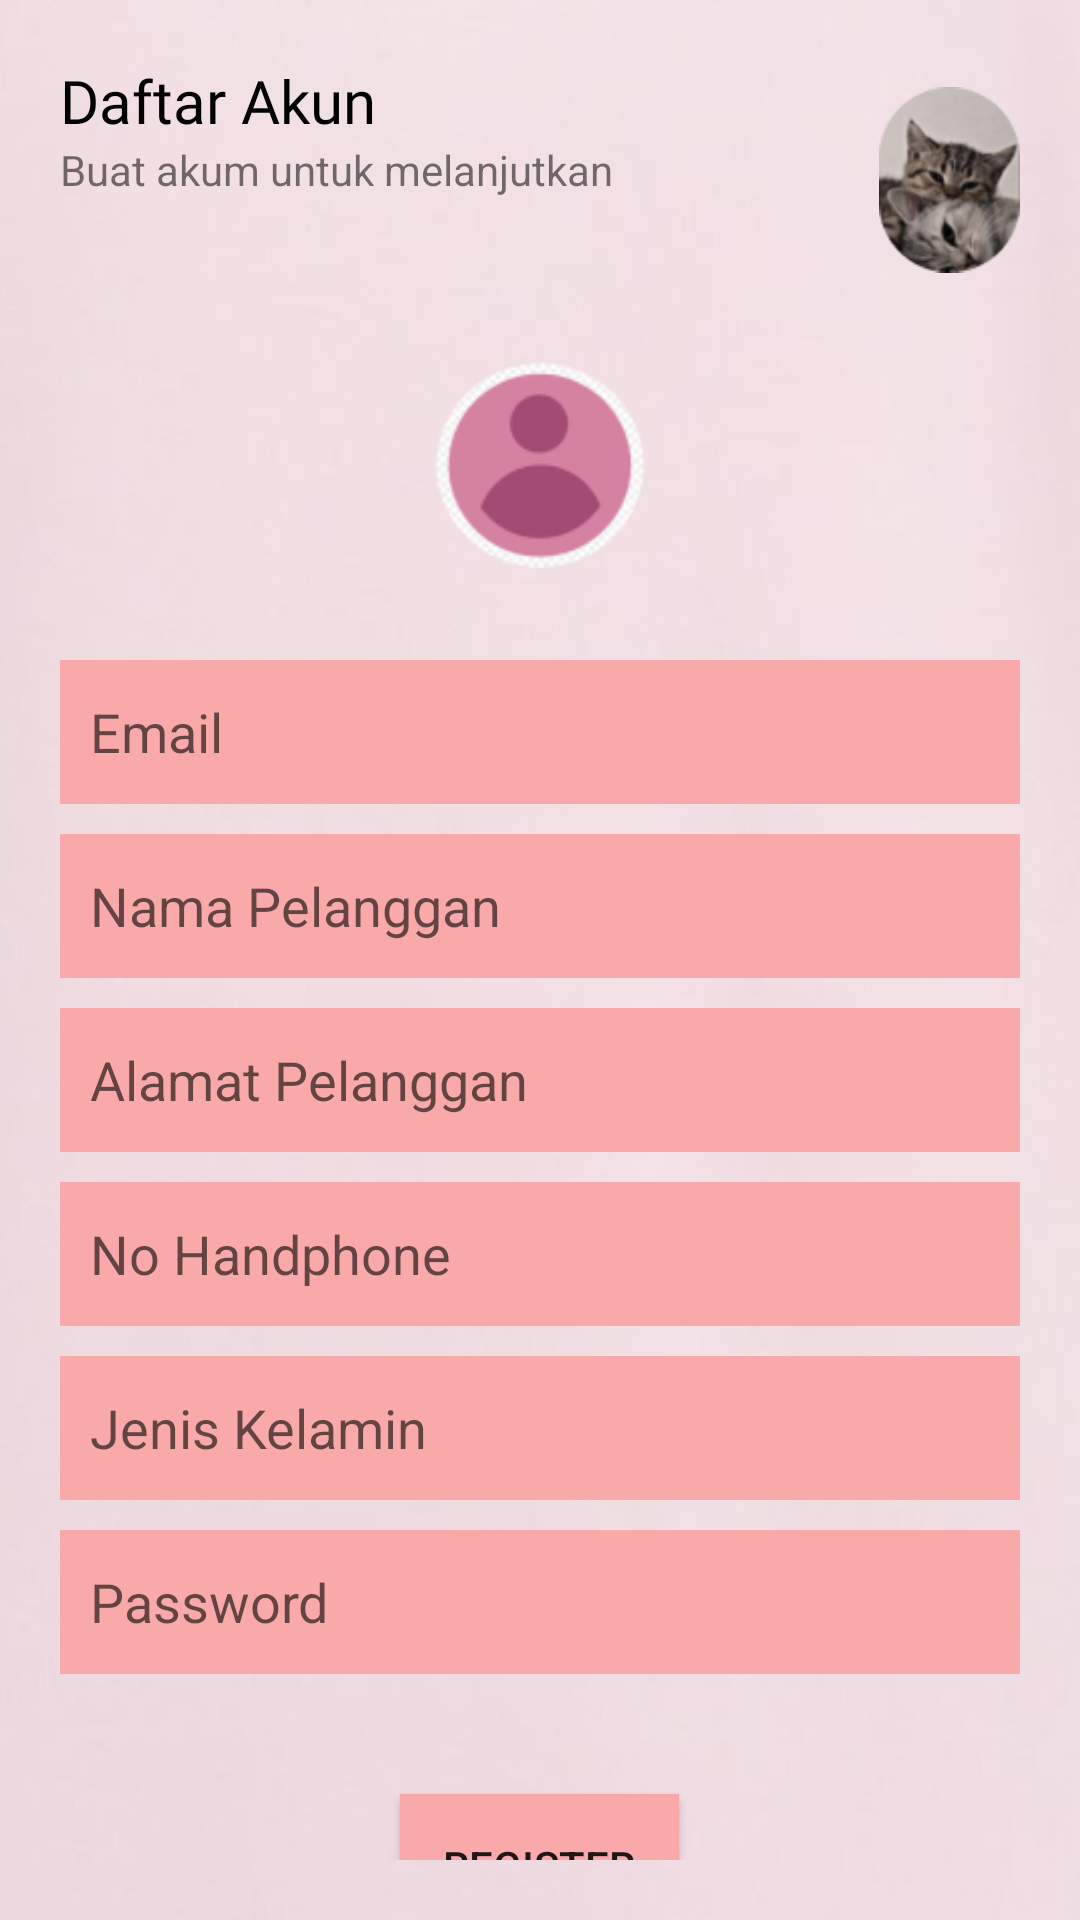

Where icons sit on this 1080 × 1920 app screen, as Rect(x1, y1, x2, y2):
profil: Rect(438, 365, 642, 566)
